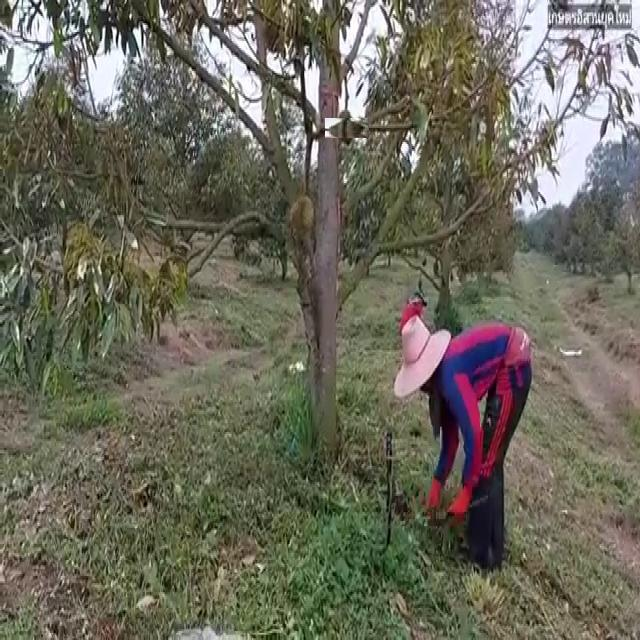durian: (290, 192, 318, 239), (331, 112, 364, 144)
